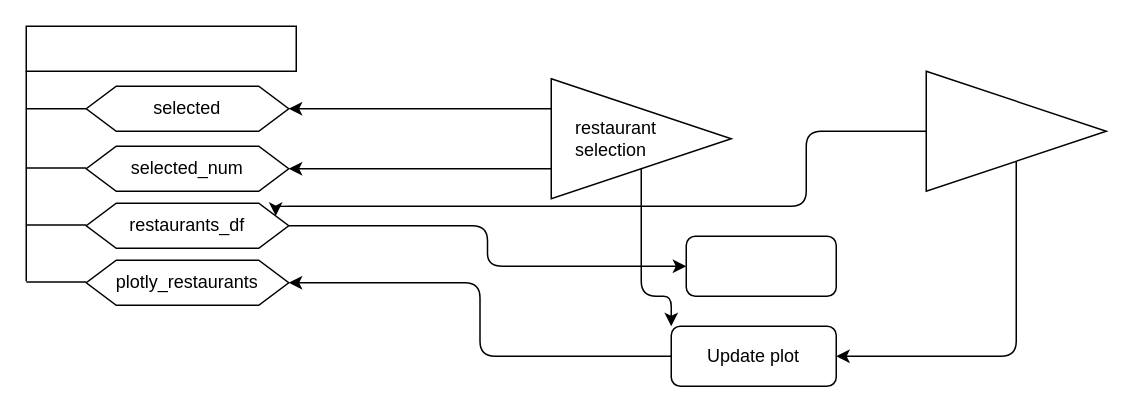
Some shapes in this 1133 by 413 pixel diagram are drawn without their labels. The shapes that lost their labels are listed below. From the top down, each one's centre as x and y in pixels, then its label:
At point 160,48: "state".
At point 1015,130: "startup".
At point 760,265: "Acquire data".
